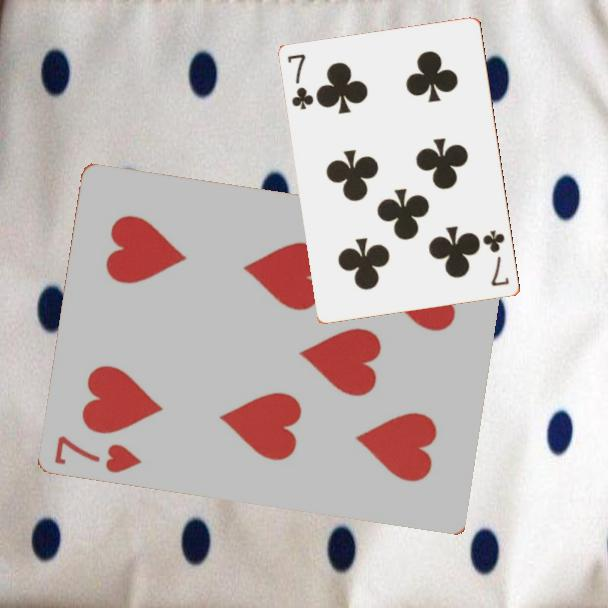c07: (284, 50, 317, 113), (480, 227, 512, 289)
h07: (51, 432, 146, 476)
